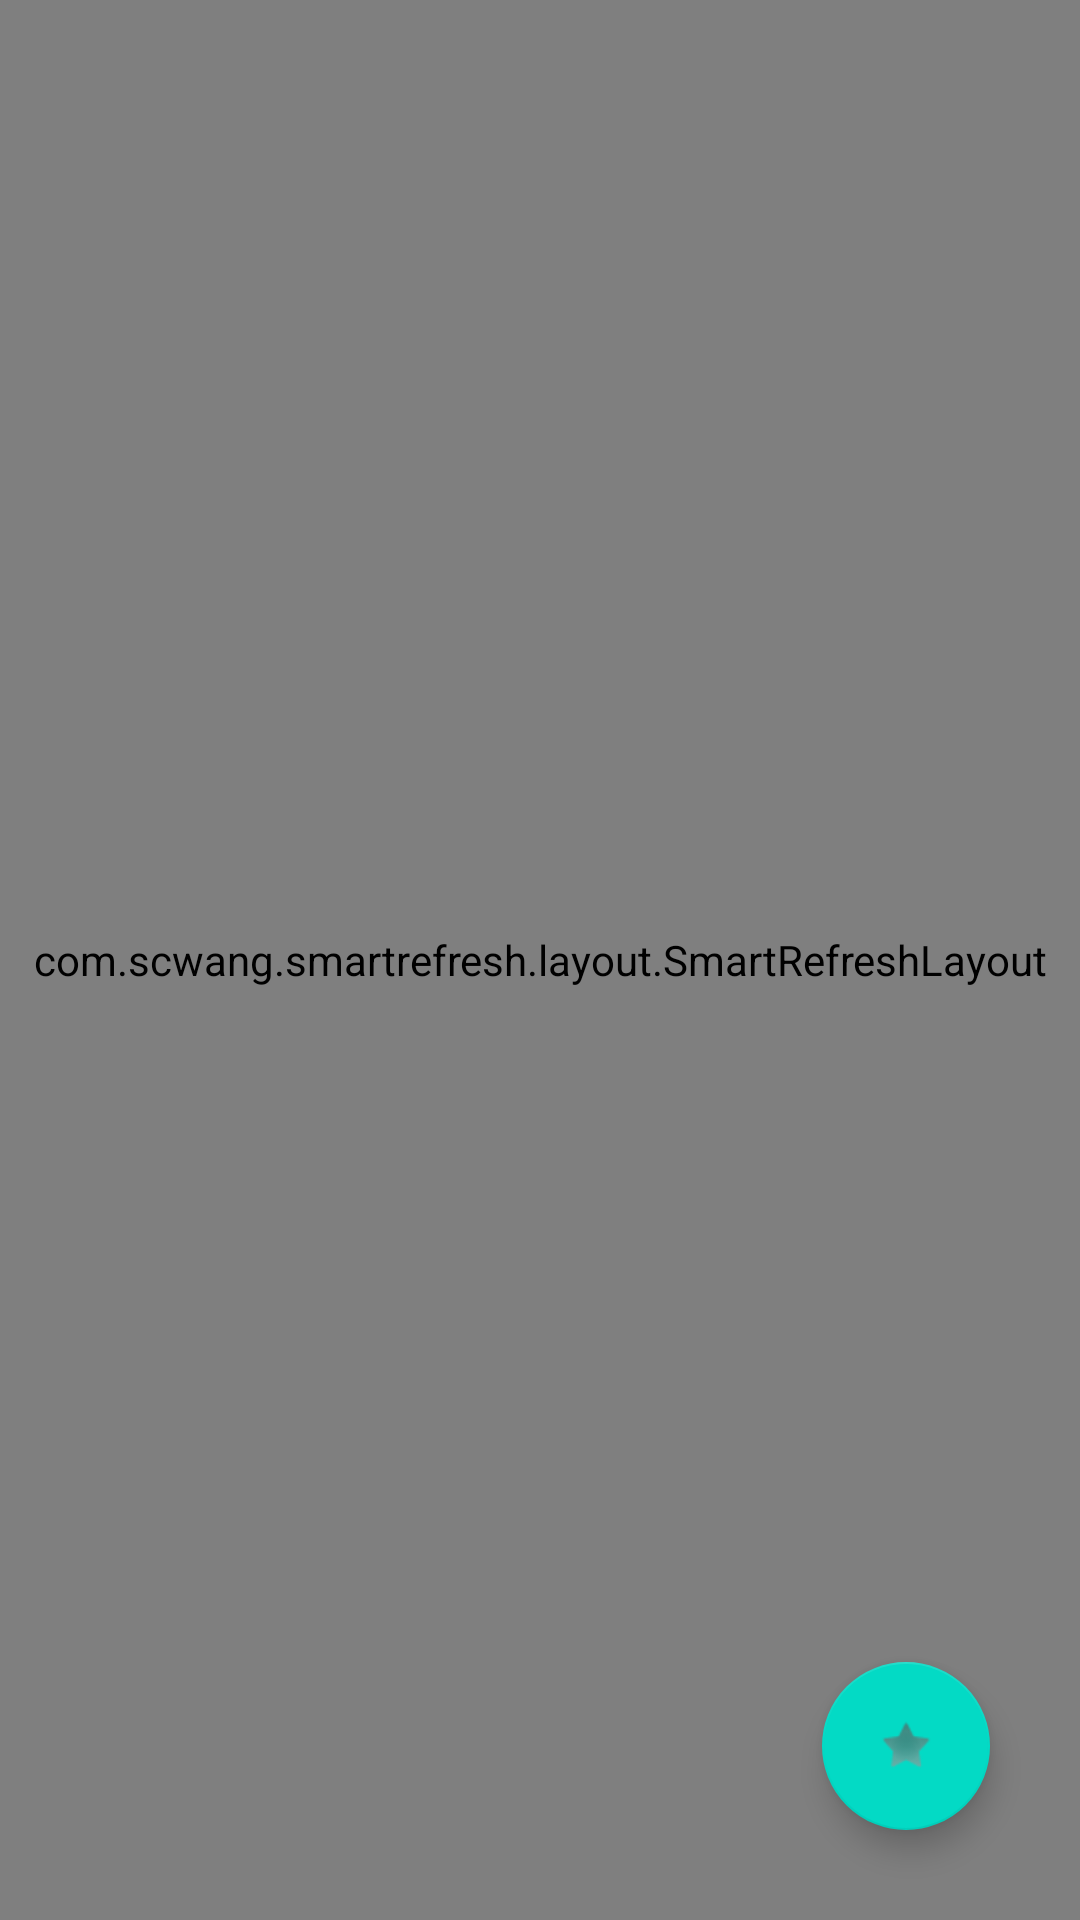

Icon bounding boxes for this 1080*1920 phone screenshot, format (x1, y1, x2, y2):
star off: (822, 1662, 990, 1830)
